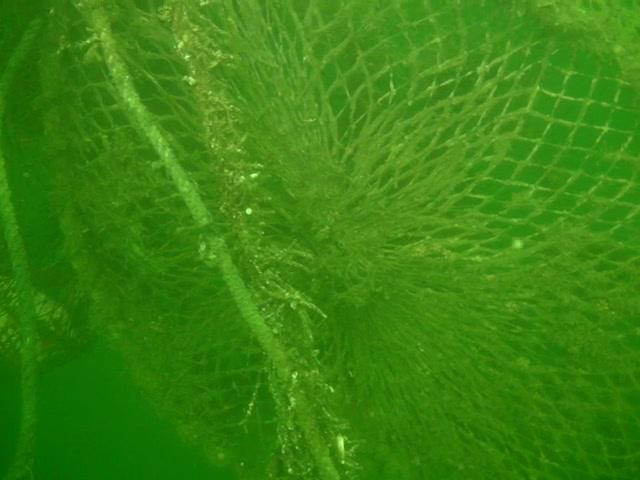circular fish trap: (39, 0, 640, 480)
rope: (70, 0, 342, 480), (0, 14, 40, 480)
